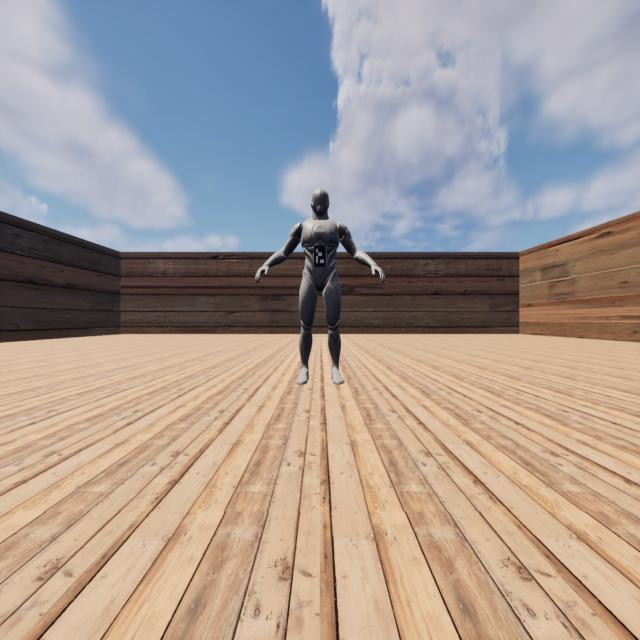aruco: (314, 245, 326, 268)
hip: (302, 269, 338, 277)
